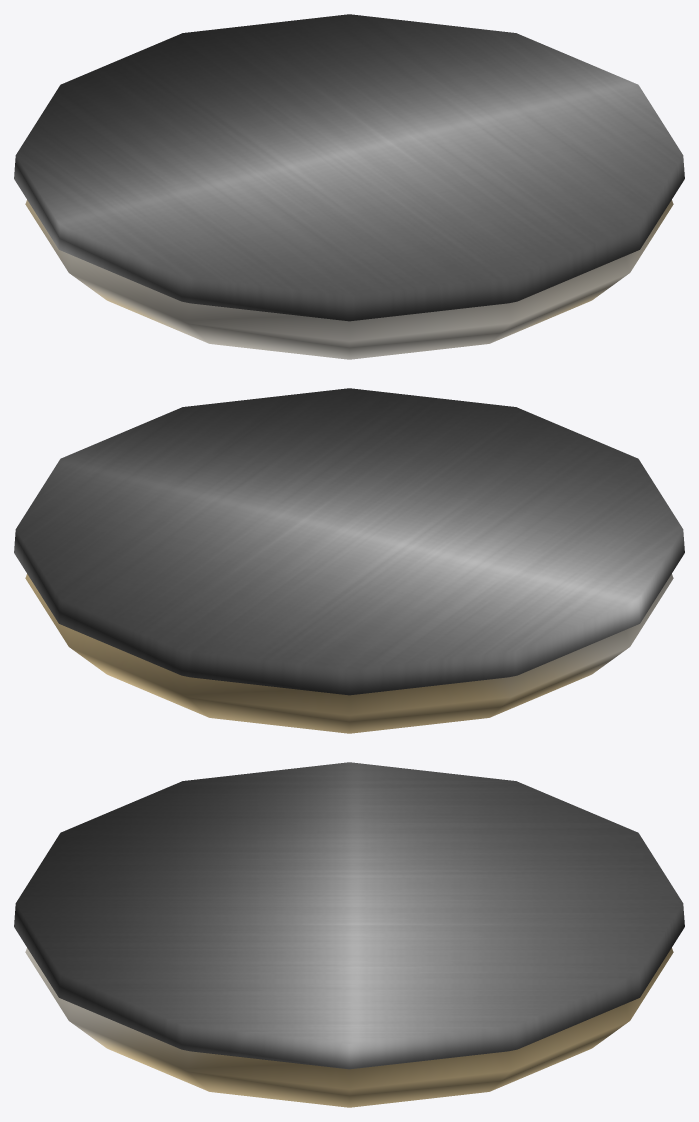
Rendered from Ceiling_Light.FBX.
3 views of the same model, one above another, from view 1: azimuth 30°, elevation 25°; view 2: azimuth 150°, elevation 25°; view 3: azimuth 270°, elevation 25° (orthographic).
Visible parts, largest first — view 1: Ceiling_Light; view 2: Ceiling_Light; view 3: Ceiling_Light.
Part boxes in pixels (<box>): Ceiling_Light: <box>14,14,684,359</box>; Ceiling_Light: <box>14,388,684,733</box>; Ceiling_Light: <box>14,762,684,1107</box>.
Bounding box in the file's own units: 121 × 34.57 × 121.
